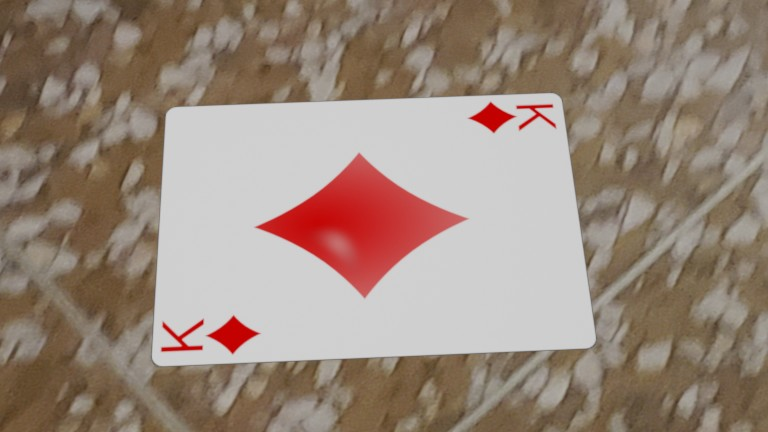king_of_diamonds: (64, 123, 105, 146), (186, 38, 224, 56)
